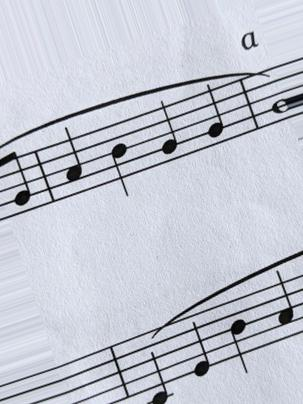note: (221, 296, 256, 380), (140, 331, 178, 403), (53, 125, 89, 199), (104, 124, 133, 206), (194, 83, 230, 147), (265, 271, 298, 339), (182, 315, 216, 376), (152, 101, 184, 163)
